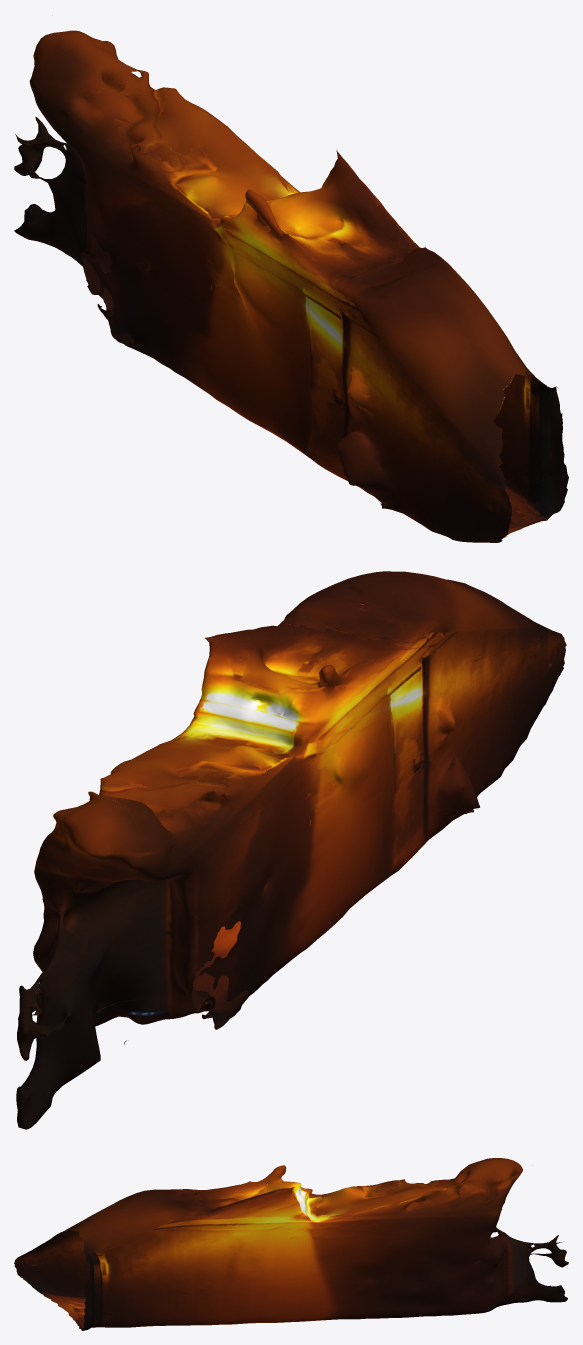
Rendered from Coridor.obj.
The picture shows the model from 3 angles, top to bottom: view 1: azimuth 30°, elevation 25°; view 2: azimuth 150°, elevation 25°; view 3: azimuth 270°, elevation 25°; orthographic projection. The views are drawn at different scales.
Bounding box in the file's own units: 13.28 × 17.57 × 62.96.
